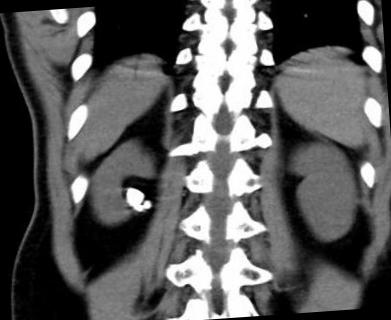Tas_Var: (122, 185, 146, 208), (131, 202, 142, 213), (142, 199, 151, 211)
